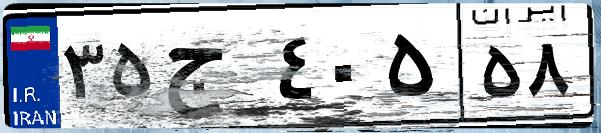0: (330, 28, 385, 110)
3: (57, 26, 110, 100)
4: (270, 28, 330, 110)
5: (385, 28, 445, 110), (475, 38, 525, 113), (110, 28, 158, 98)
8: (525, 38, 570, 115)
ج: (158, 20, 270, 120)
